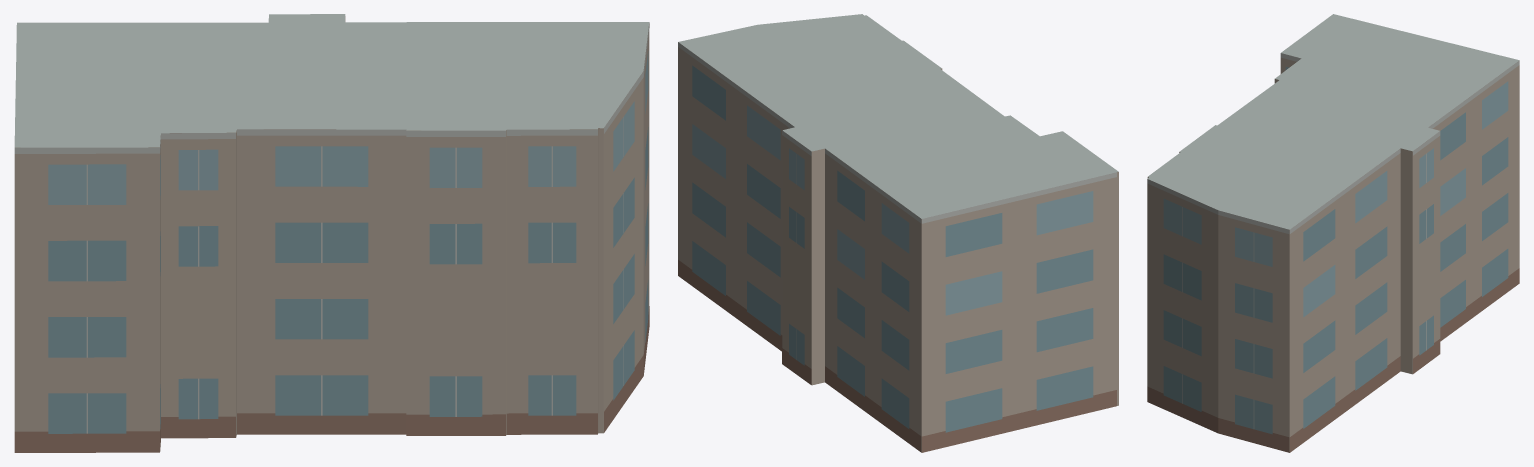
File: survey-upis-32653096.glb
3 renders of one model, left to right at view 1: azimuth 30°, elevation 25°; view 2: azimuth 150°, elevation 25°; view 3: azimuth 270°, elevation 25°, orthographic. The views are drawn at different scales.
Visible parts, largest first — view 1: survey-upis-32653096.tmp; view 2: survey-upis-32653096.tmp; view 3: survey-upis-32653096.tmp.
Part boxes in pixels (x1,y1,x2,y2): survey-upis-32653096.tmp: [14, 14, 649, 452]; survey-upis-32653096.tmp: [678, 14, 1118, 452]; survey-upis-32653096.tmp: [1147, 14, 1519, 452].
Bounding box in the file's own units: 24.69 × 11.9 × 18.01.
